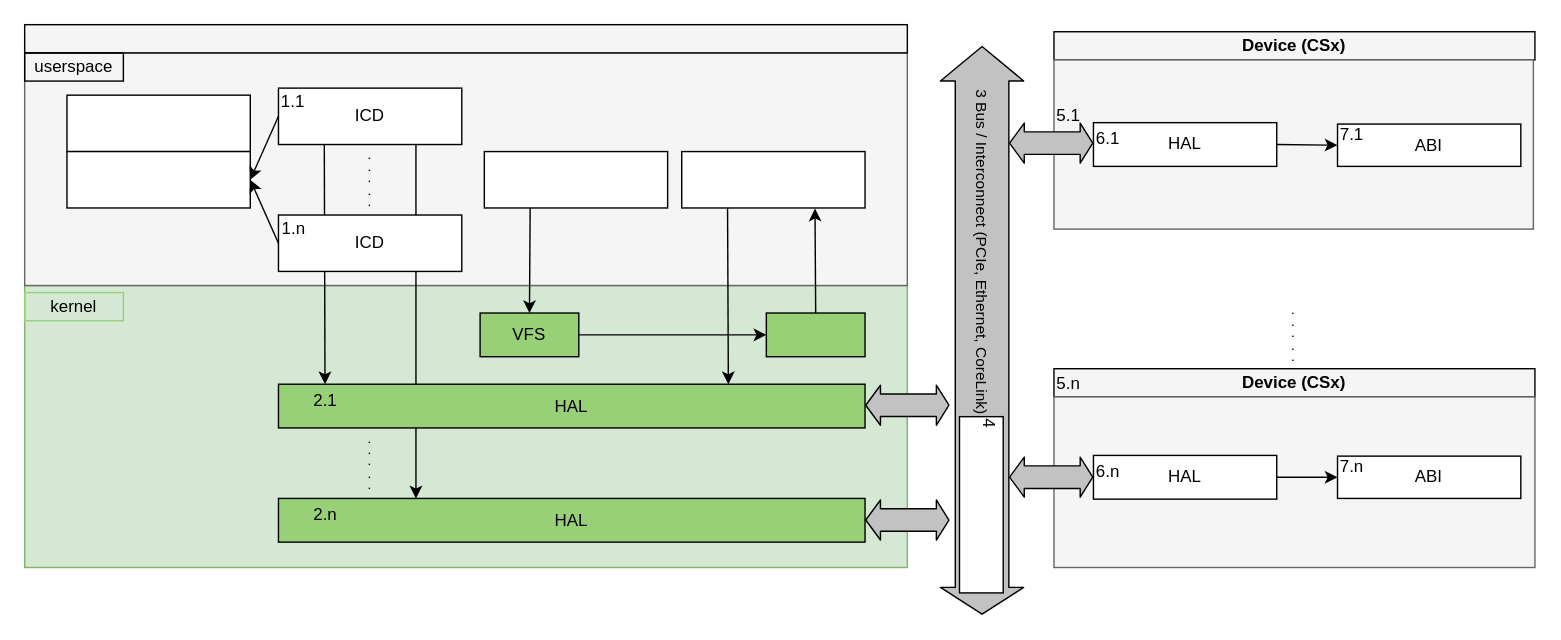
The diagram is 1561 pixels wide and 640 high, and some of its shapes have lost their labels. Each missing label, with the centre of its shape:
API: pixel 158 123
FUSE: pixel 815 334
Host: pixel 465 38
I/O read, write, etc: pixel 575 179
libfuse: pixel 772 179
Loader: pixel 158 179
Protocol (NVMe): pixel 980 504
